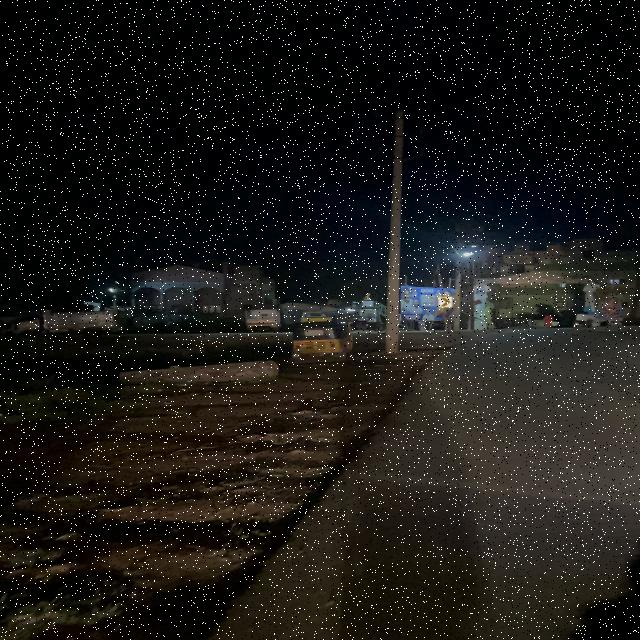chevron_right: (434, 294, 454, 311)
